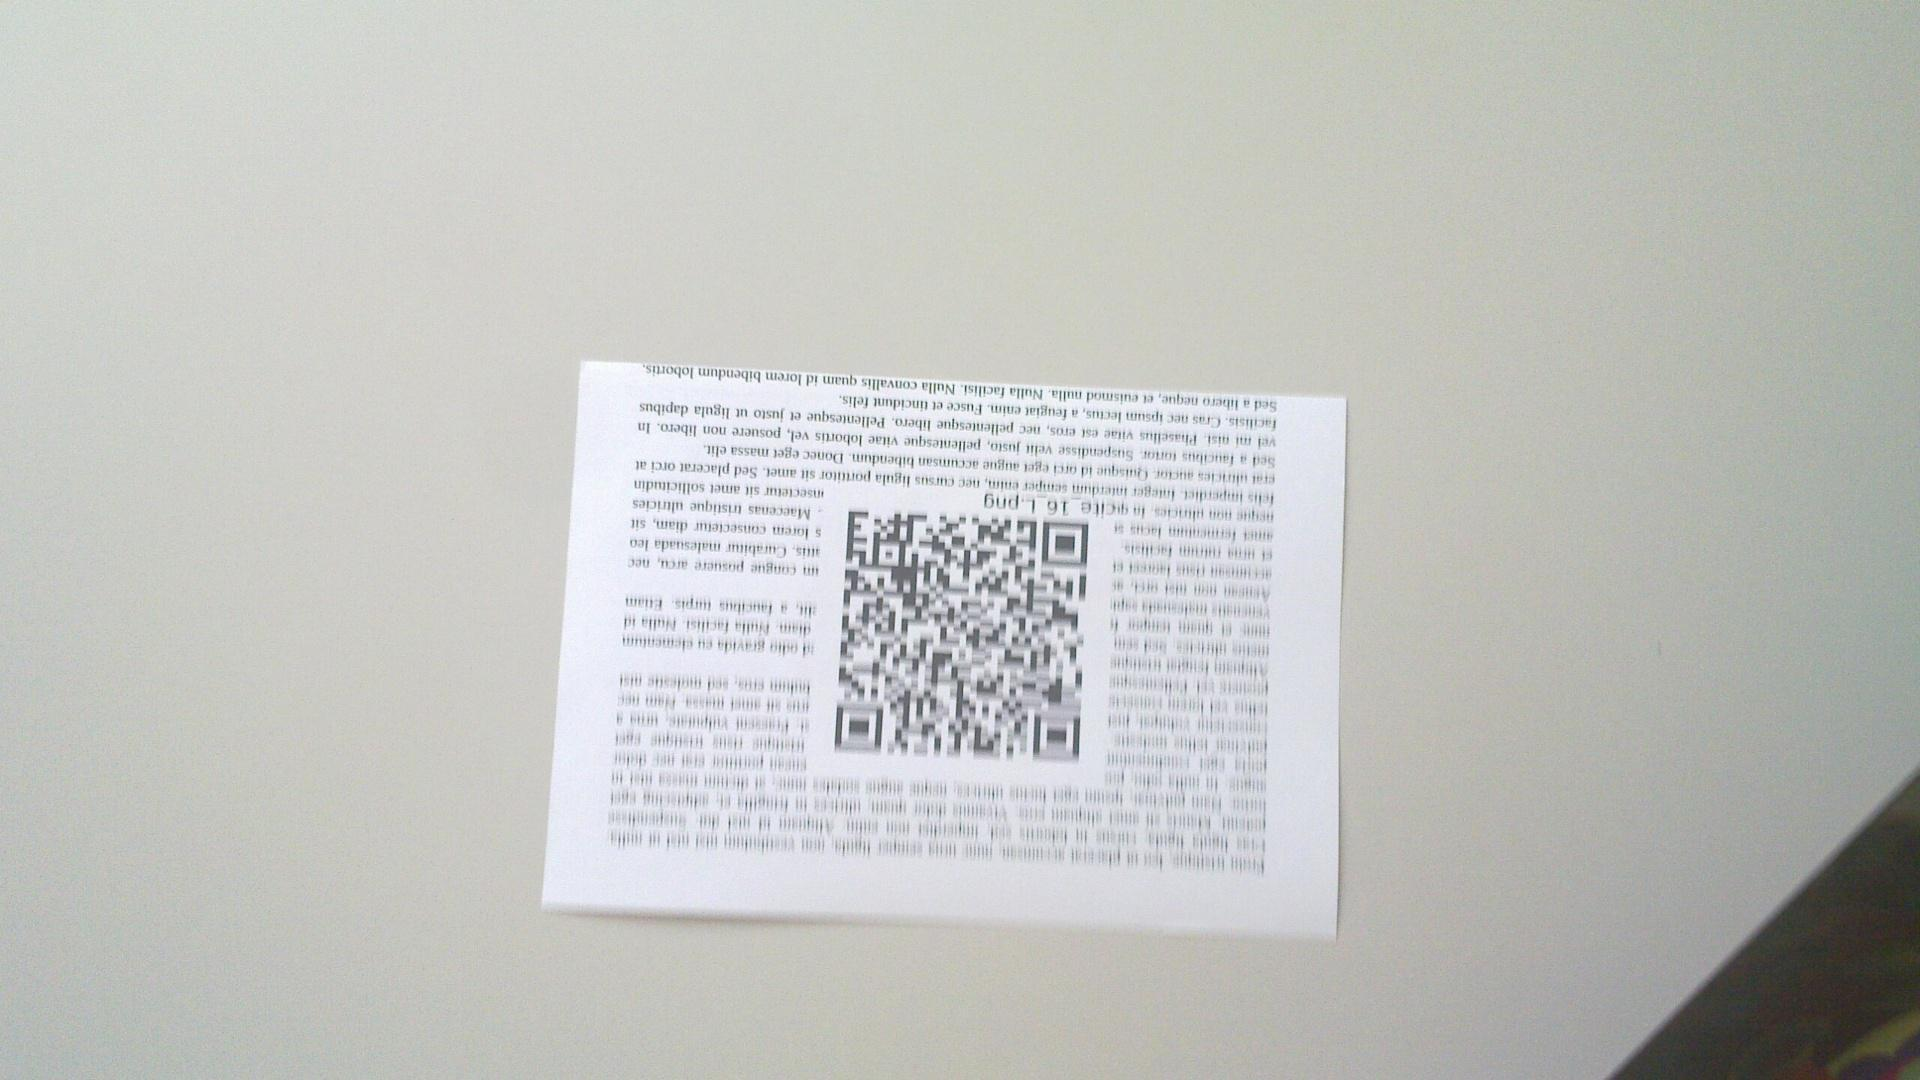Finder pattern: (1036, 512, 1095, 575), (829, 700, 891, 758), (1026, 709, 1088, 766)
